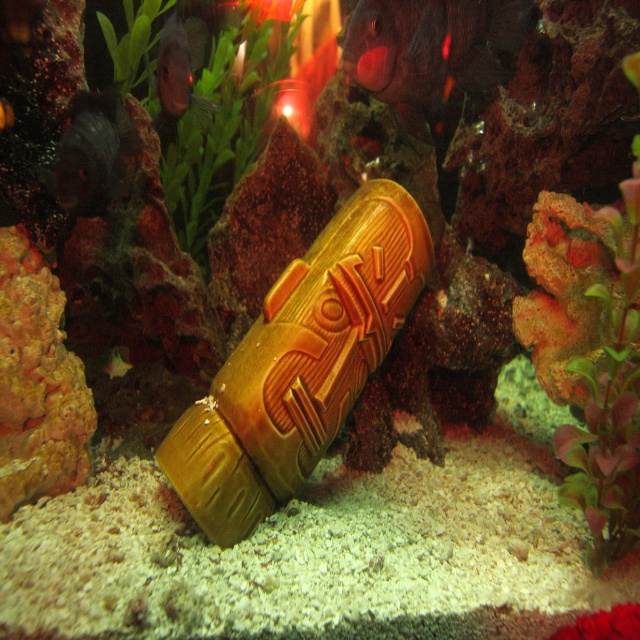Fish: (341, 0, 521, 140), (52, 85, 140, 217), (144, 7, 215, 124)
